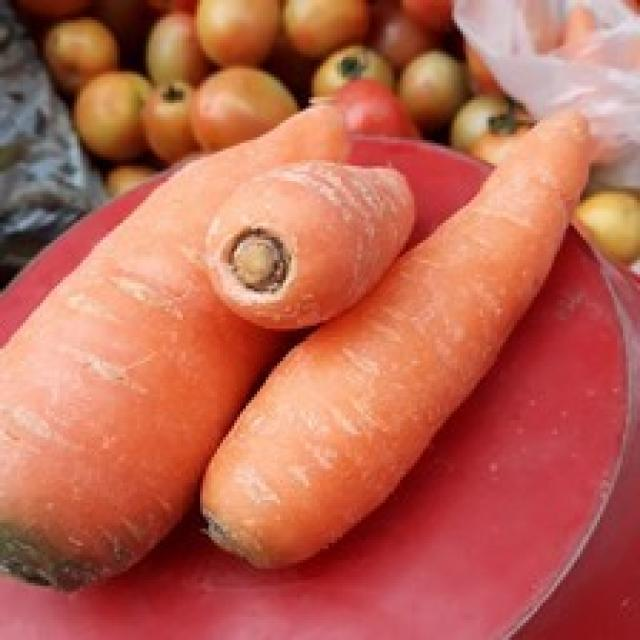Fresh_Carrot: (174, 94, 606, 547), (0, 73, 347, 618), (196, 122, 439, 344)
